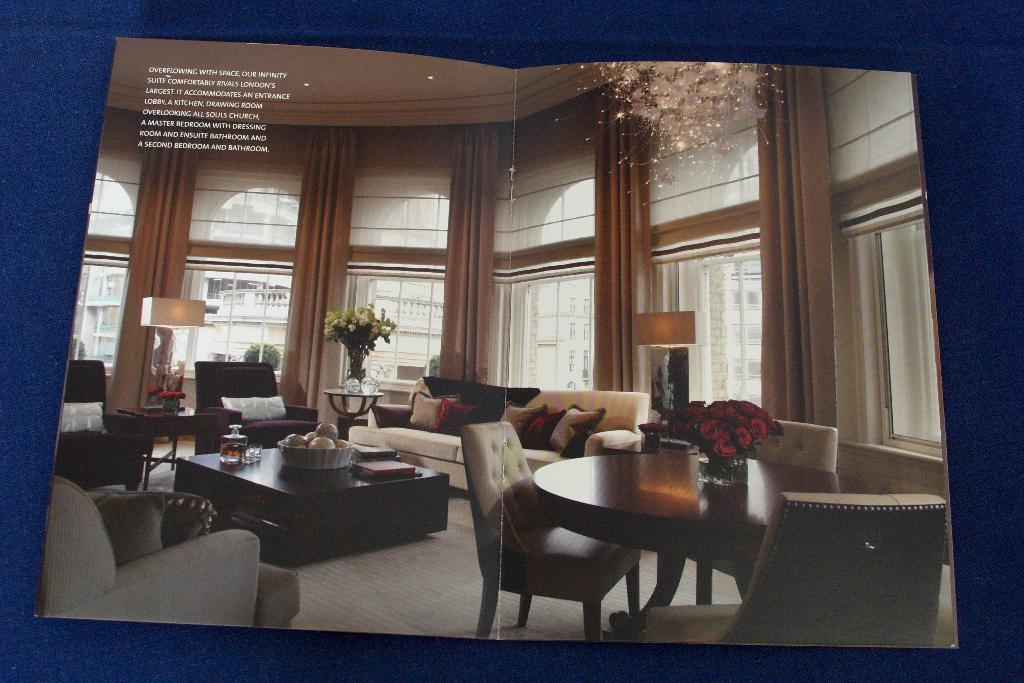Chair: (610, 492, 950, 650), (39, 477, 304, 630), (477, 419, 643, 663), (692, 416, 838, 606), (54, 356, 149, 492), (194, 357, 323, 457)
